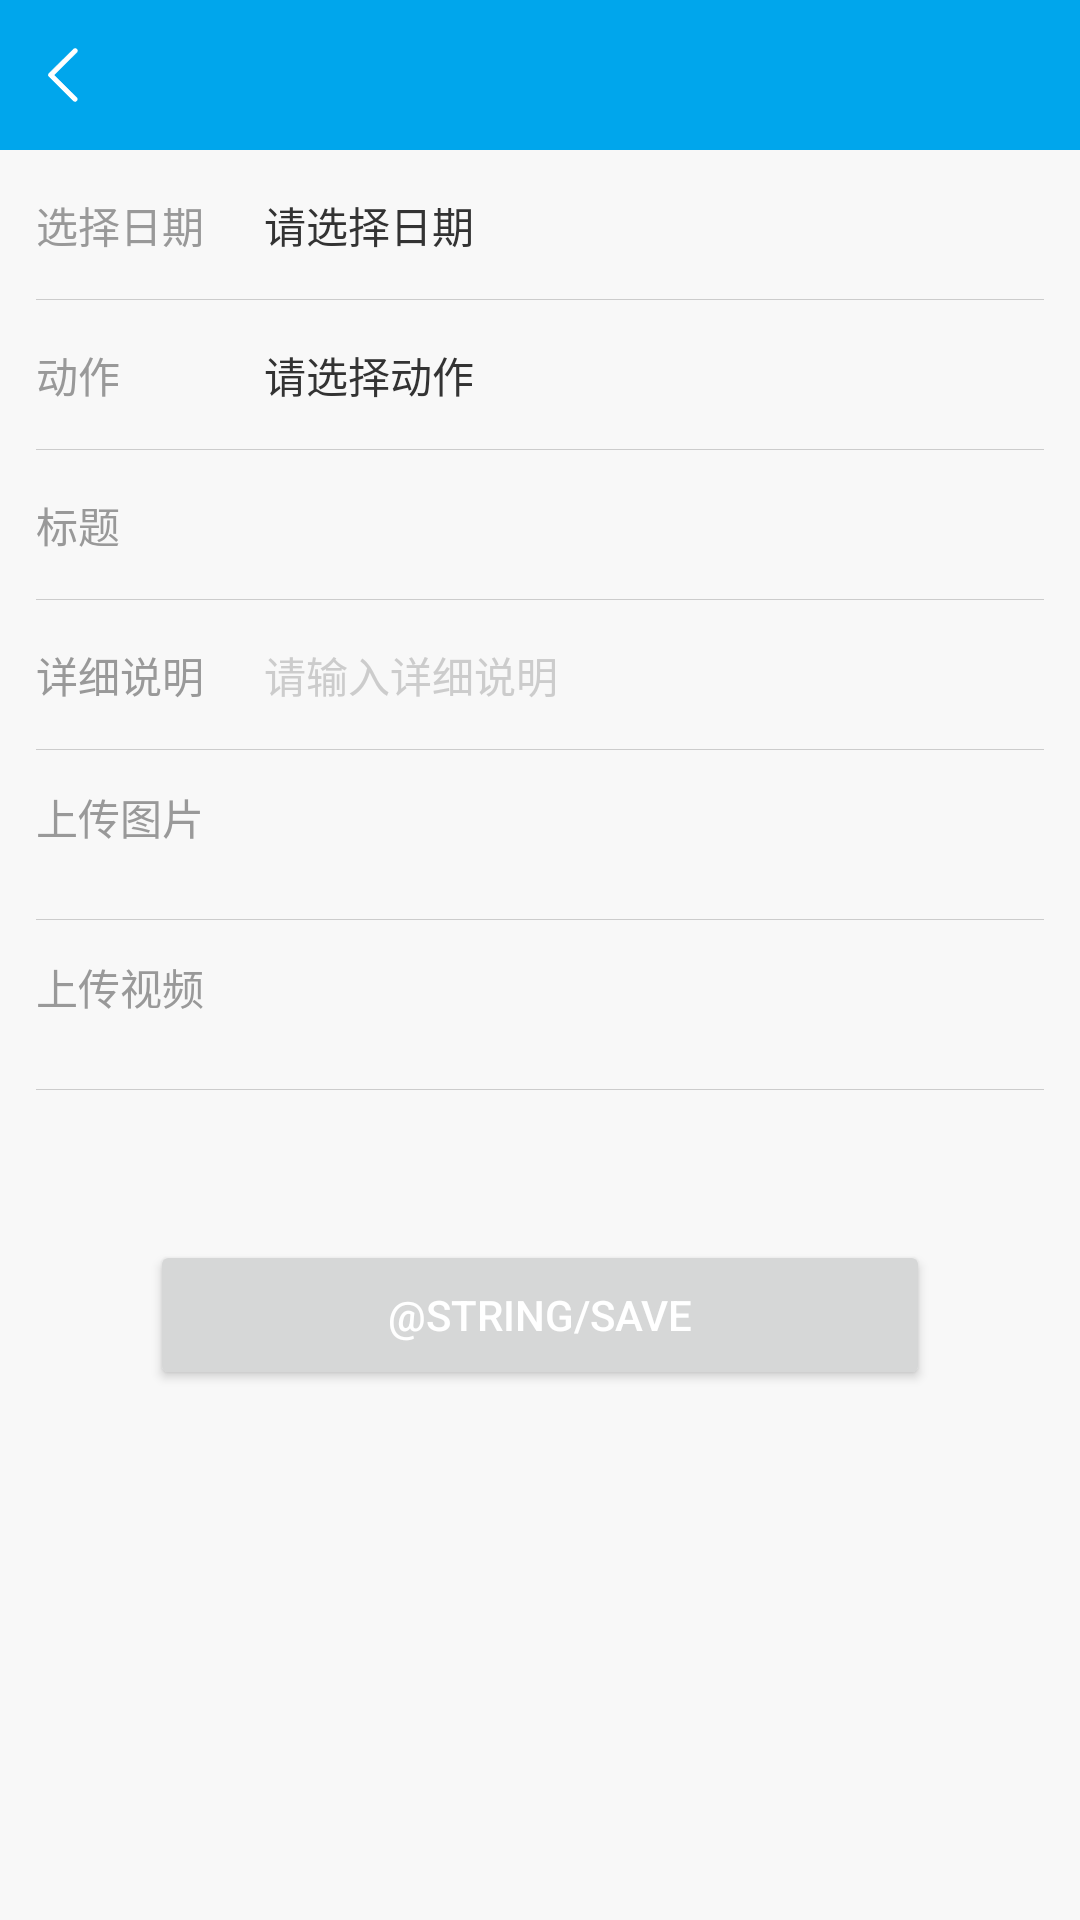

Screen size 1080×1920. Icon name, then its center in pixels as (x=x, y=y):
arrow: (x=63, y=75)
